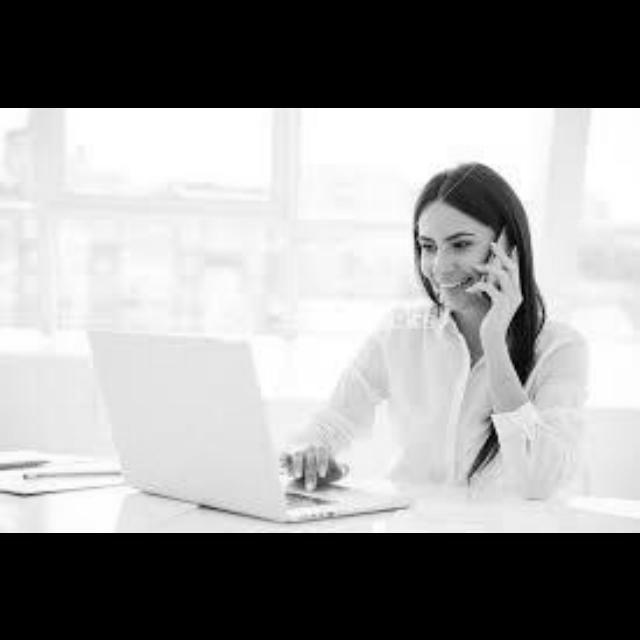fake: (464, 209, 538, 321)
